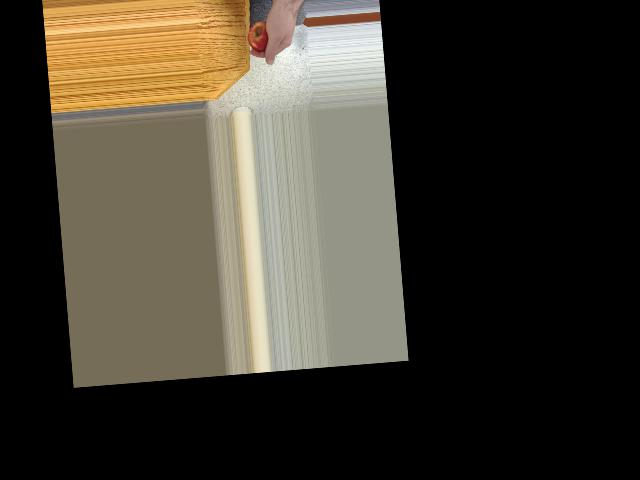apple: (246, 19, 277, 51)
